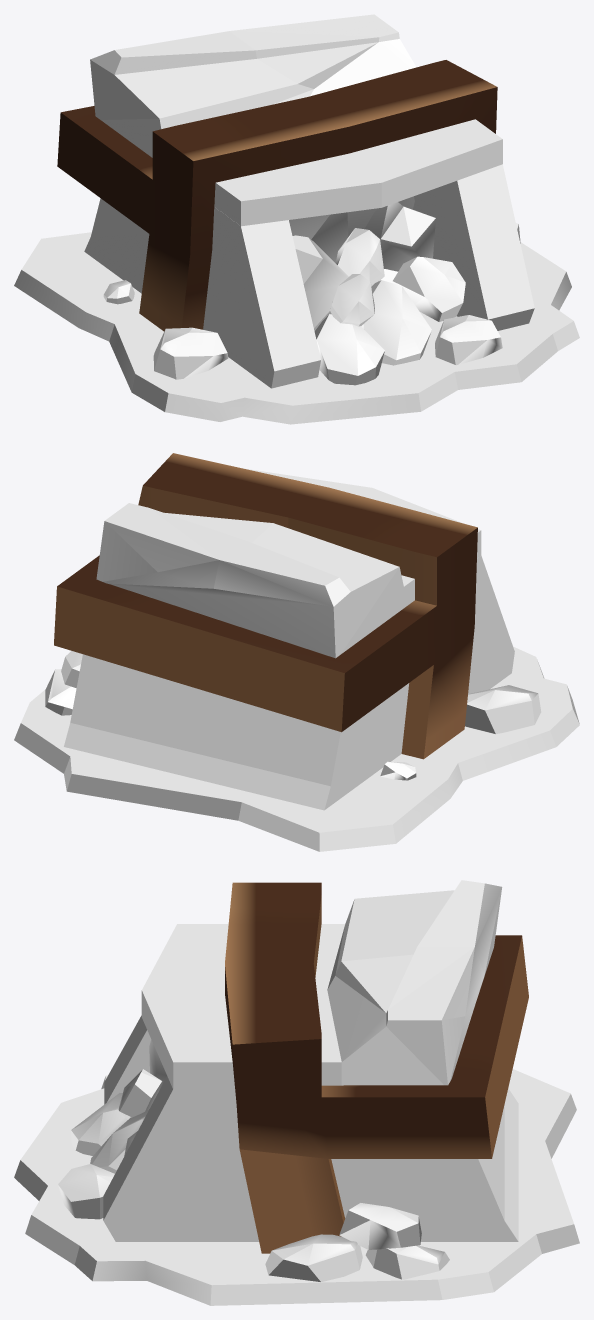
File: Pve_CoinMine.fbx
3 views of the same model, one above another, from view 1: azimuth 30°, elevation 25°; view 2: azimuth 150°, elevation 25°; view 3: azimuth 270°, elevation 25° (orthographic). The views are drawn at different scales.
Visible parts, largest first — view 1: Gold_Mine; view 2: Gold_Mine; view 3: Gold_Mine.
Part boxes in pixels (bbox=[...]): Gold_Mine: bbox=[14, 14, 579, 424]; Gold_Mine: bbox=[14, 453, 579, 851]; Gold_Mine: bbox=[14, 880, 579, 1305].
Size of the model in its own units: 1.17 by 0.6151 by 1.2.
